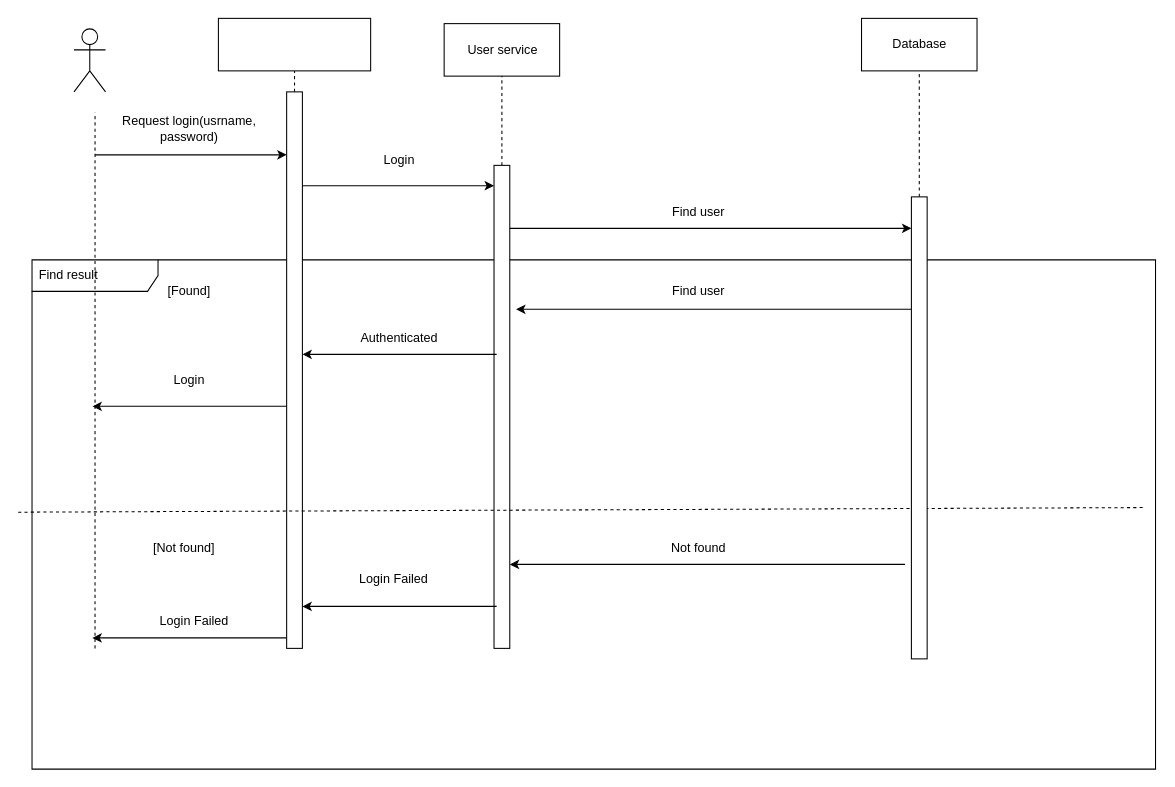
This 1175x787 diagram has some shape labels left out. Here are the shapes that lost their labels. From the top down, the centre of each, then its label:
At [89,60]: "Admin/user".
At [294,44]: "Authenticate controller".
